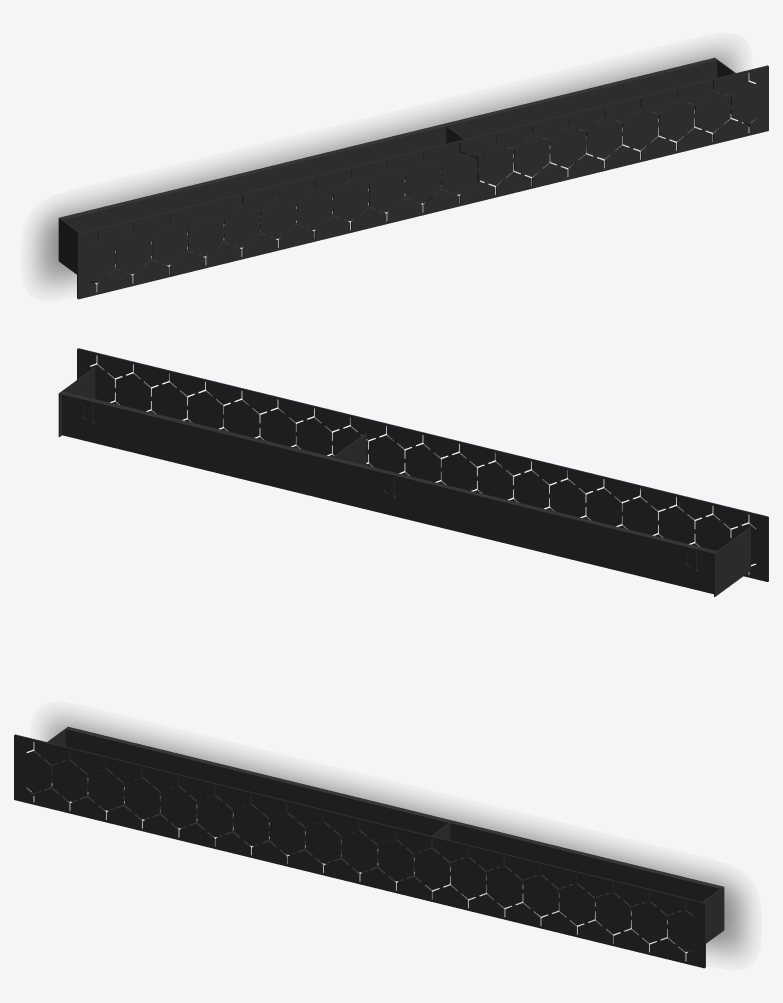
File: bee-double.71ab70cad2.ar.glb
3 renders of one model, top to bottom at view 1: azimuth 30°, elevation 25°; view 2: azimuth 150°, elevation 25°; view 3: azimuth 330°, elevation 25°, orthographic.
Parts seen in each view (by area): view 1: NAUO1, object 2; view 2: NAUO1; view 3: NAUO1, object 2.
Part boxes in pixels (bbox=[...]): NAUO1: bbox=[58, 57, 768, 299]; object 2: bbox=[34, 48, 738, 285]; NAUO1: bbox=[58, 348, 768, 596]; NAUO1: bbox=[14, 726, 724, 968]; object 2: bbox=[44, 717, 748, 954].
Bounding box in the file's own units: 1.08 × 0.17 × 0.092.
Materials: 2 (1 with a texture image).
